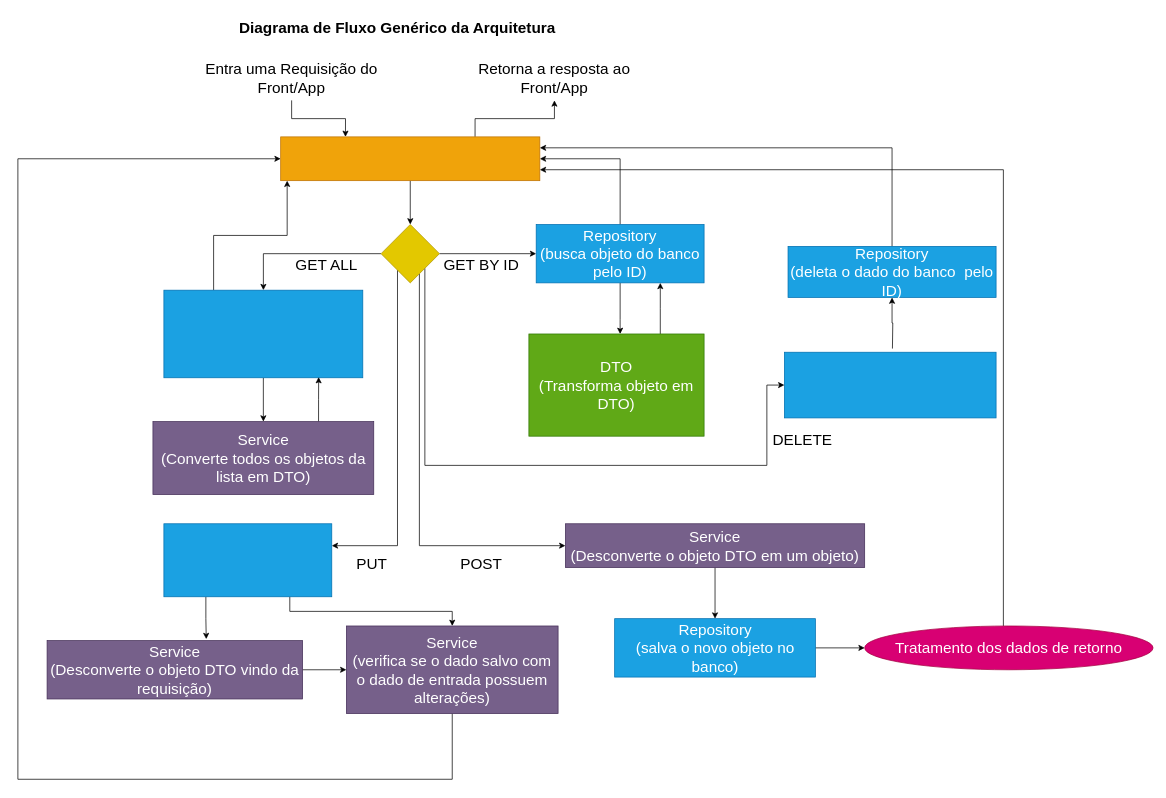
Image size: 1166x798. Some labels were removed from this diagram. Here are the shapes that lost their labels. From the top down, the box of each, then its label:
(280, 136, 540, 181): Controller (pega a requisição e trata os dados)
(163, 289, 363, 378): Repository (busca todos os objetos do banco em uma lista))
(784, 351, 996, 418): Repository (busca o dado do banco pelo ID)
(163, 523, 332, 597): Repository (busca o objeto do banco pelo ID)
